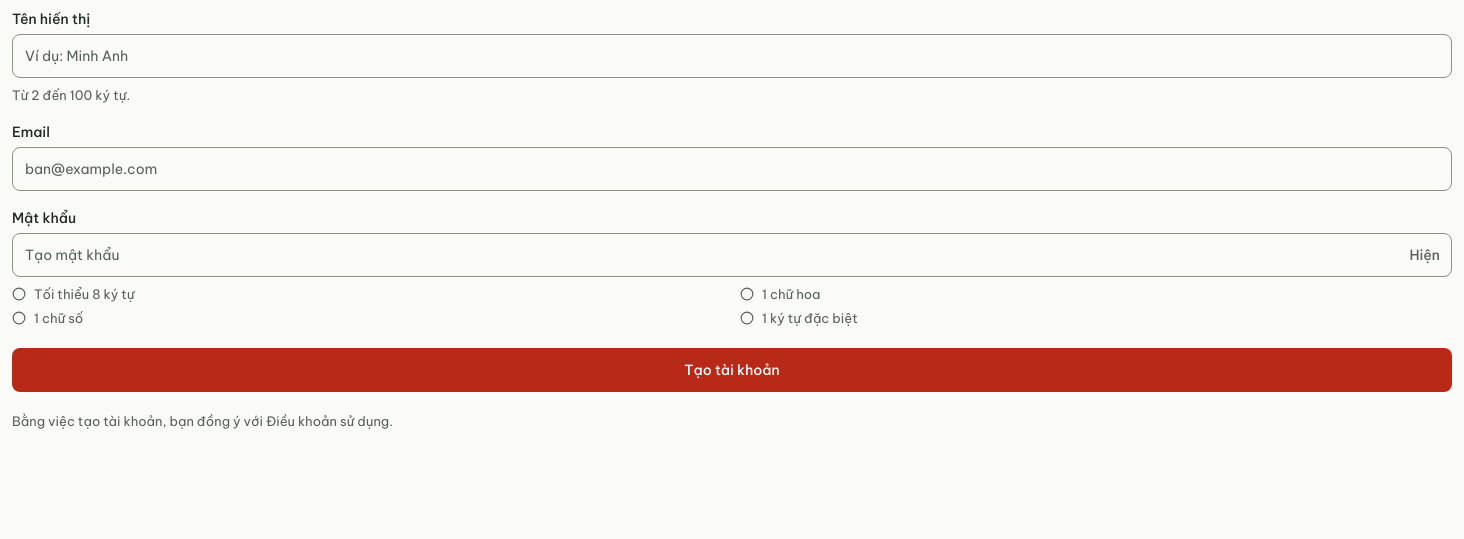
Scenario: RegisterForm › maps a duplicate email (409) onto the email field
Type "Minh Anh" into the field labelled "Tên hiển thị" at coordinates (732, 56), box [12, 34, 1452, 78]
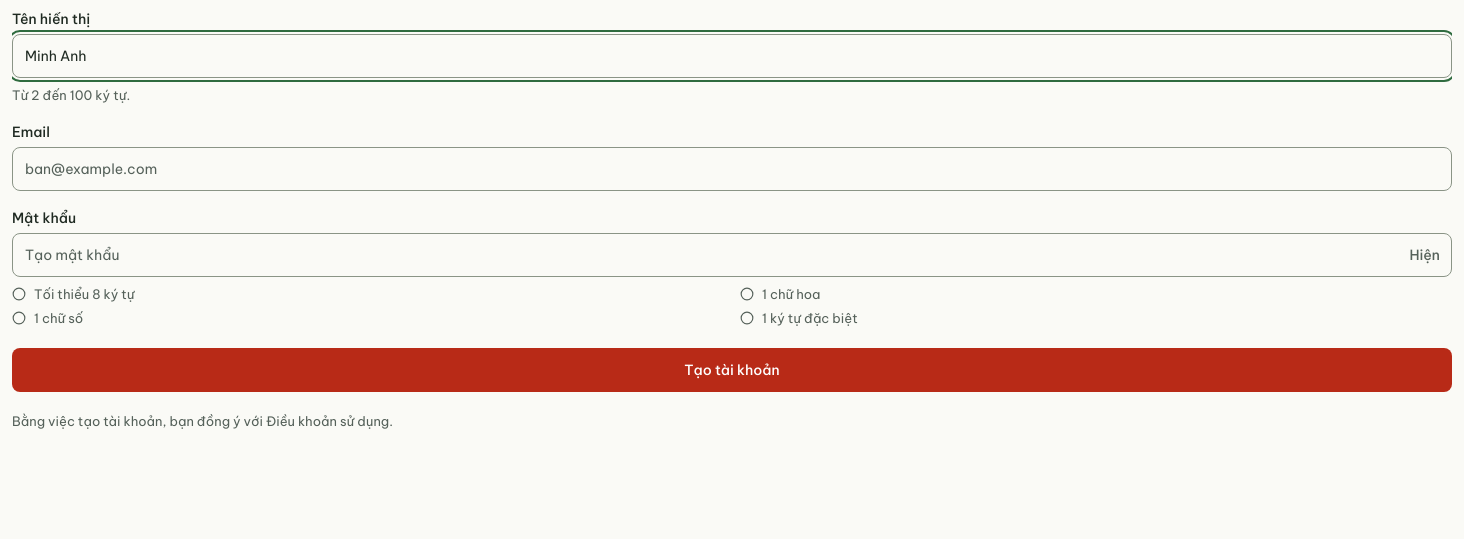
Type "a@b.co" into the field labelled "Email" at coordinates (732, 169), box [12, 147, 1452, 191]
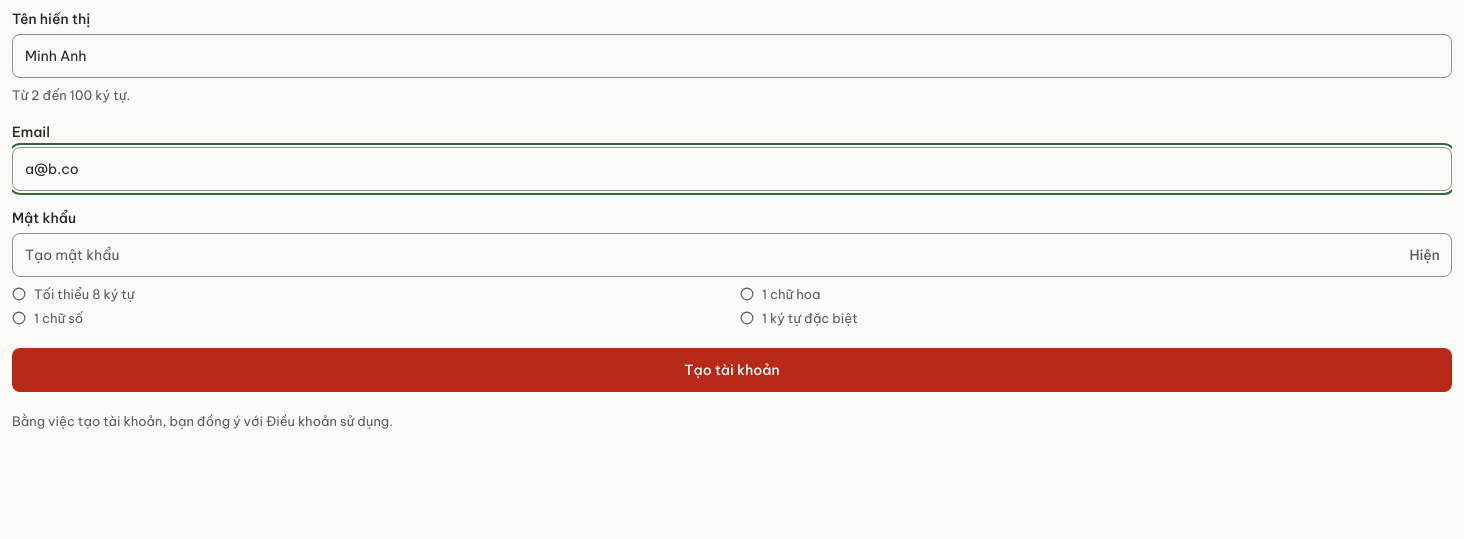
Type "Abcdef1!" into the password field labelled "Mật khẩu" at coordinates (732, 255), box [12, 233, 1452, 277]
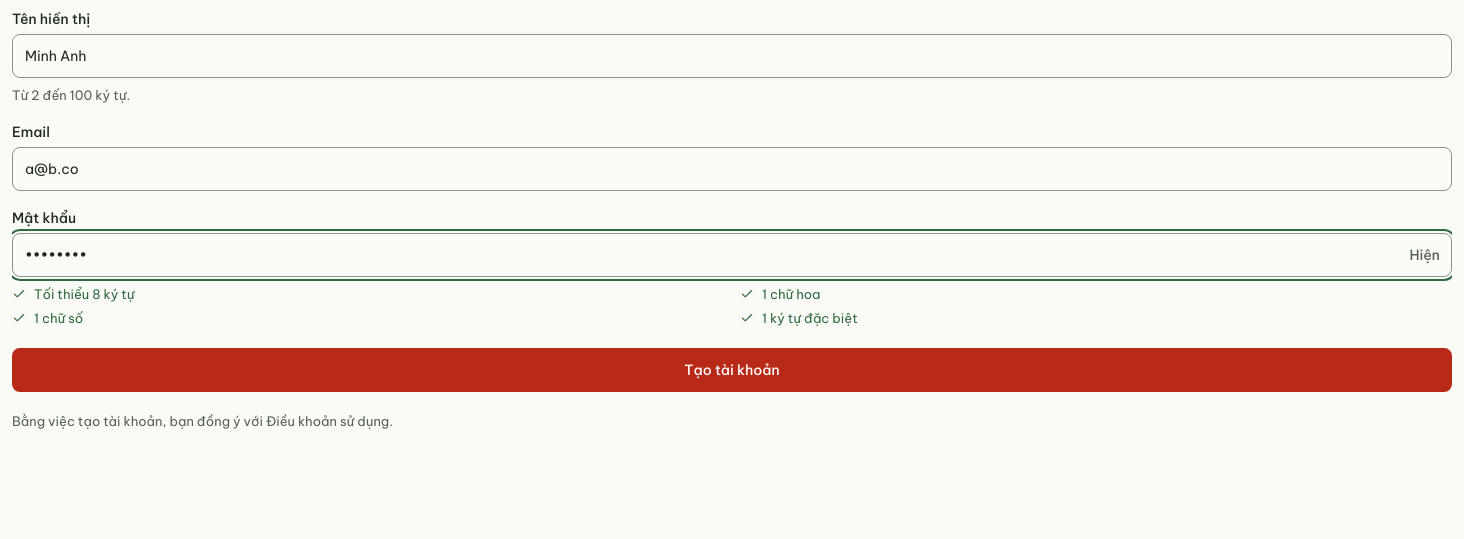
Click the button "Tạo tài khoản" at coordinates (732, 370), box [12, 348, 1452, 392]
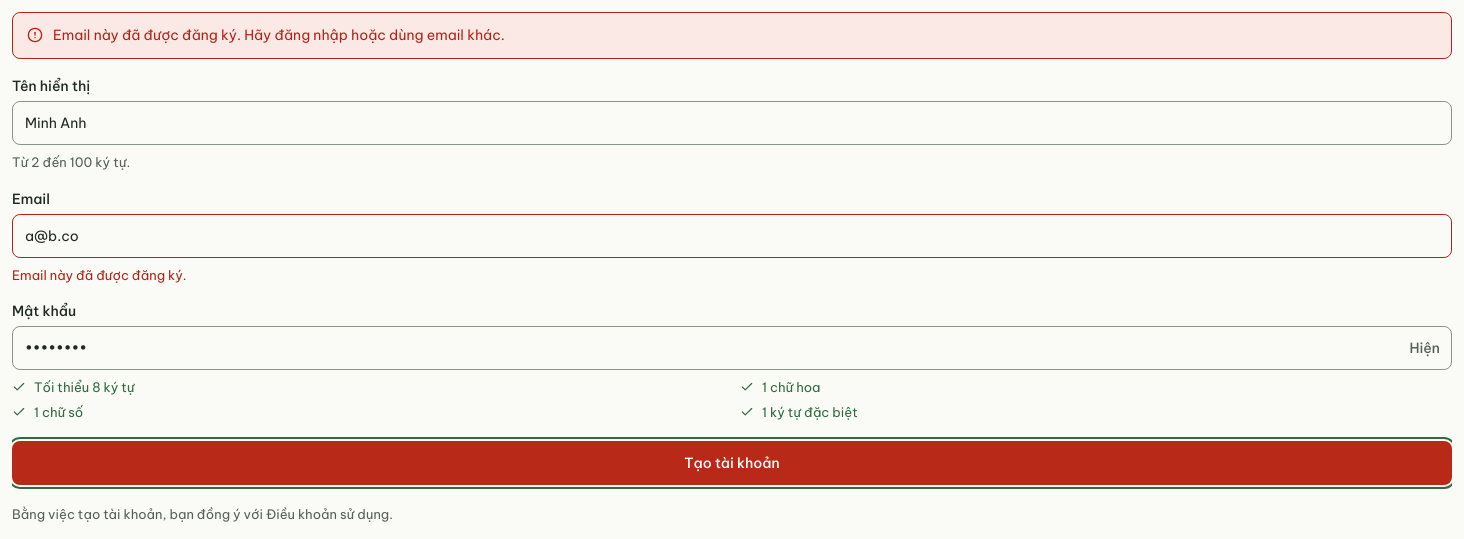
Check: the text "Email này đã được đăng ký." is shown, box [12, 267, 186, 283]
